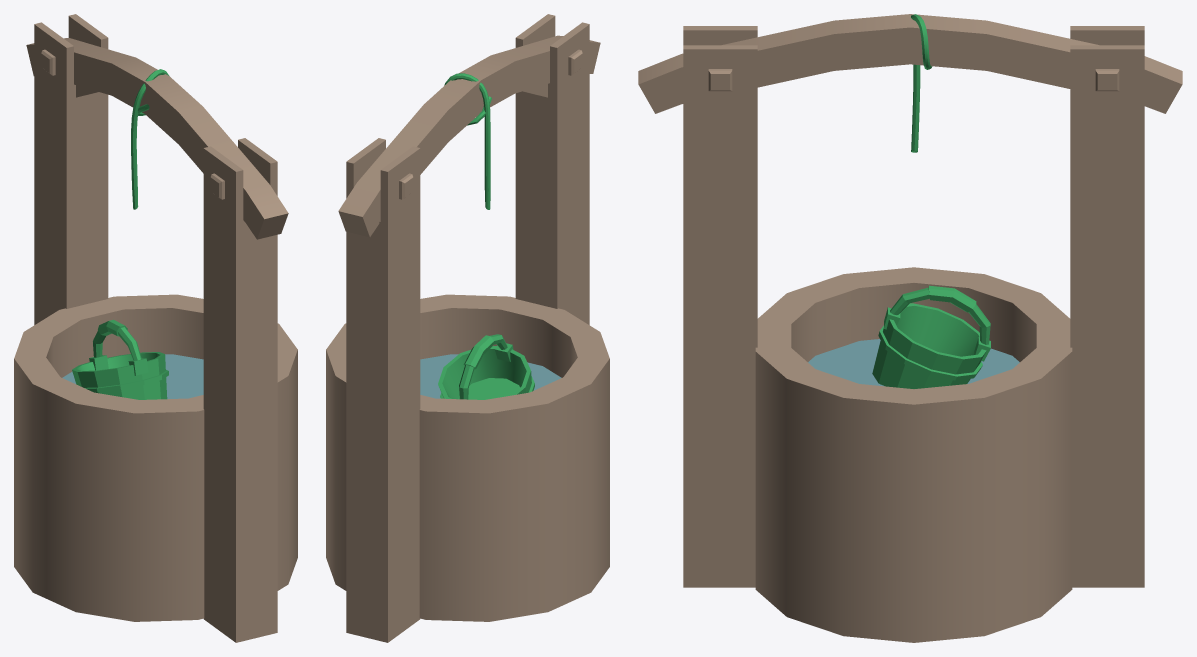
File: PozoBaldeCaido.fbx
3 renders of one model, left to right at view 1: azimuth 30°, elevation 25°; view 2: azimuth 150°, elevation 25°; view 3: azimuth 270°, elevation 25°, orthographic. The views are drawn at different scales.
Visible parts, largest first — view 1: pCylinder3, polySurface7, polySurface8, pCube2, curve2, pCylinder5, pCylinder4; view 2: pCylinder3, polySurface8, polySurface7, pCube2, curve2, pCylinder5, pCylinder4; view 3: pCylinder3, polySurface8, polySurface7, pCube2, curve2, pCylinder5, pCylinder4.
Part boxes in pixels (box(x1,y1,x2,y2)): pCylinder3: box(14, 294, 297, 621); polySurface7: box(203, 138, 277, 642); polySurface8: box(34, 14, 108, 324); pCube2: box(26, 38, 288, 239); curve2: box(72, 319, 168, 399); pCylinder5: box(62, 354, 203, 398); pCylinder4: box(131, 69, 169, 209); pCylinder3: box(326, 294, 609, 621); polySurface8: box(346, 138, 420, 642); polySurface7: box(515, 14, 589, 324); pCube2: box(338, 35, 600, 237); curve2: box(438, 334, 534, 399); pCylinder5: box(420, 354, 561, 398); pCylinder4: box(444, 73, 491, 209); pCylinder3: box(755, 267, 1072, 642); polySurface8: box(1070, 26, 1144, 587); polySurface7: box(683, 26, 757, 587); pCube2: box(638, 14, 1182, 113); curve2: box(872, 285, 990, 388); pCylinder5: box(808, 339, 1019, 386); pCylinder4: box(911, 14, 932, 152).
Bounding box in the file's own units: 2 × 3.81 × 3.35.
